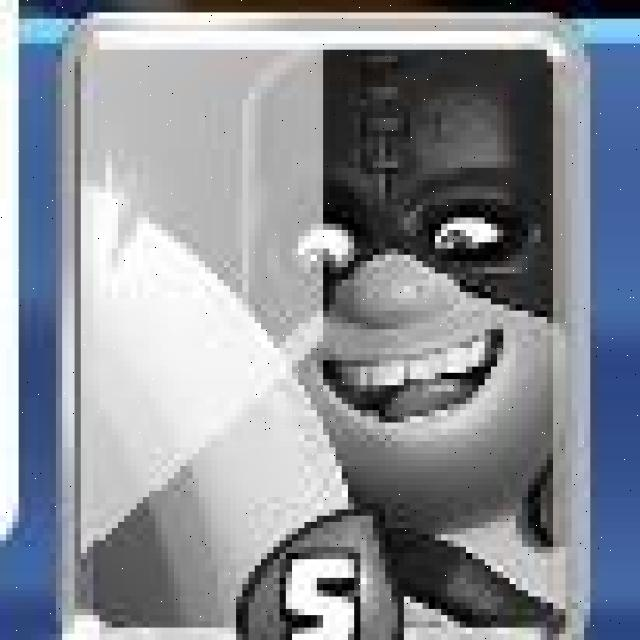Executioner: (59, 7, 586, 640)
